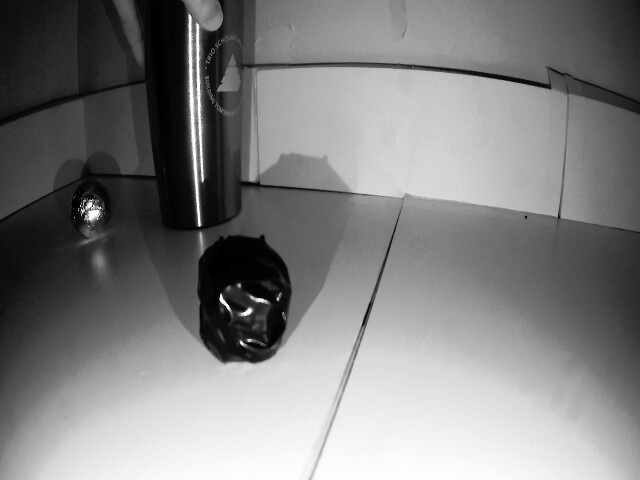black: (68, 182, 118, 242)
silver: (192, 232, 293, 371)
